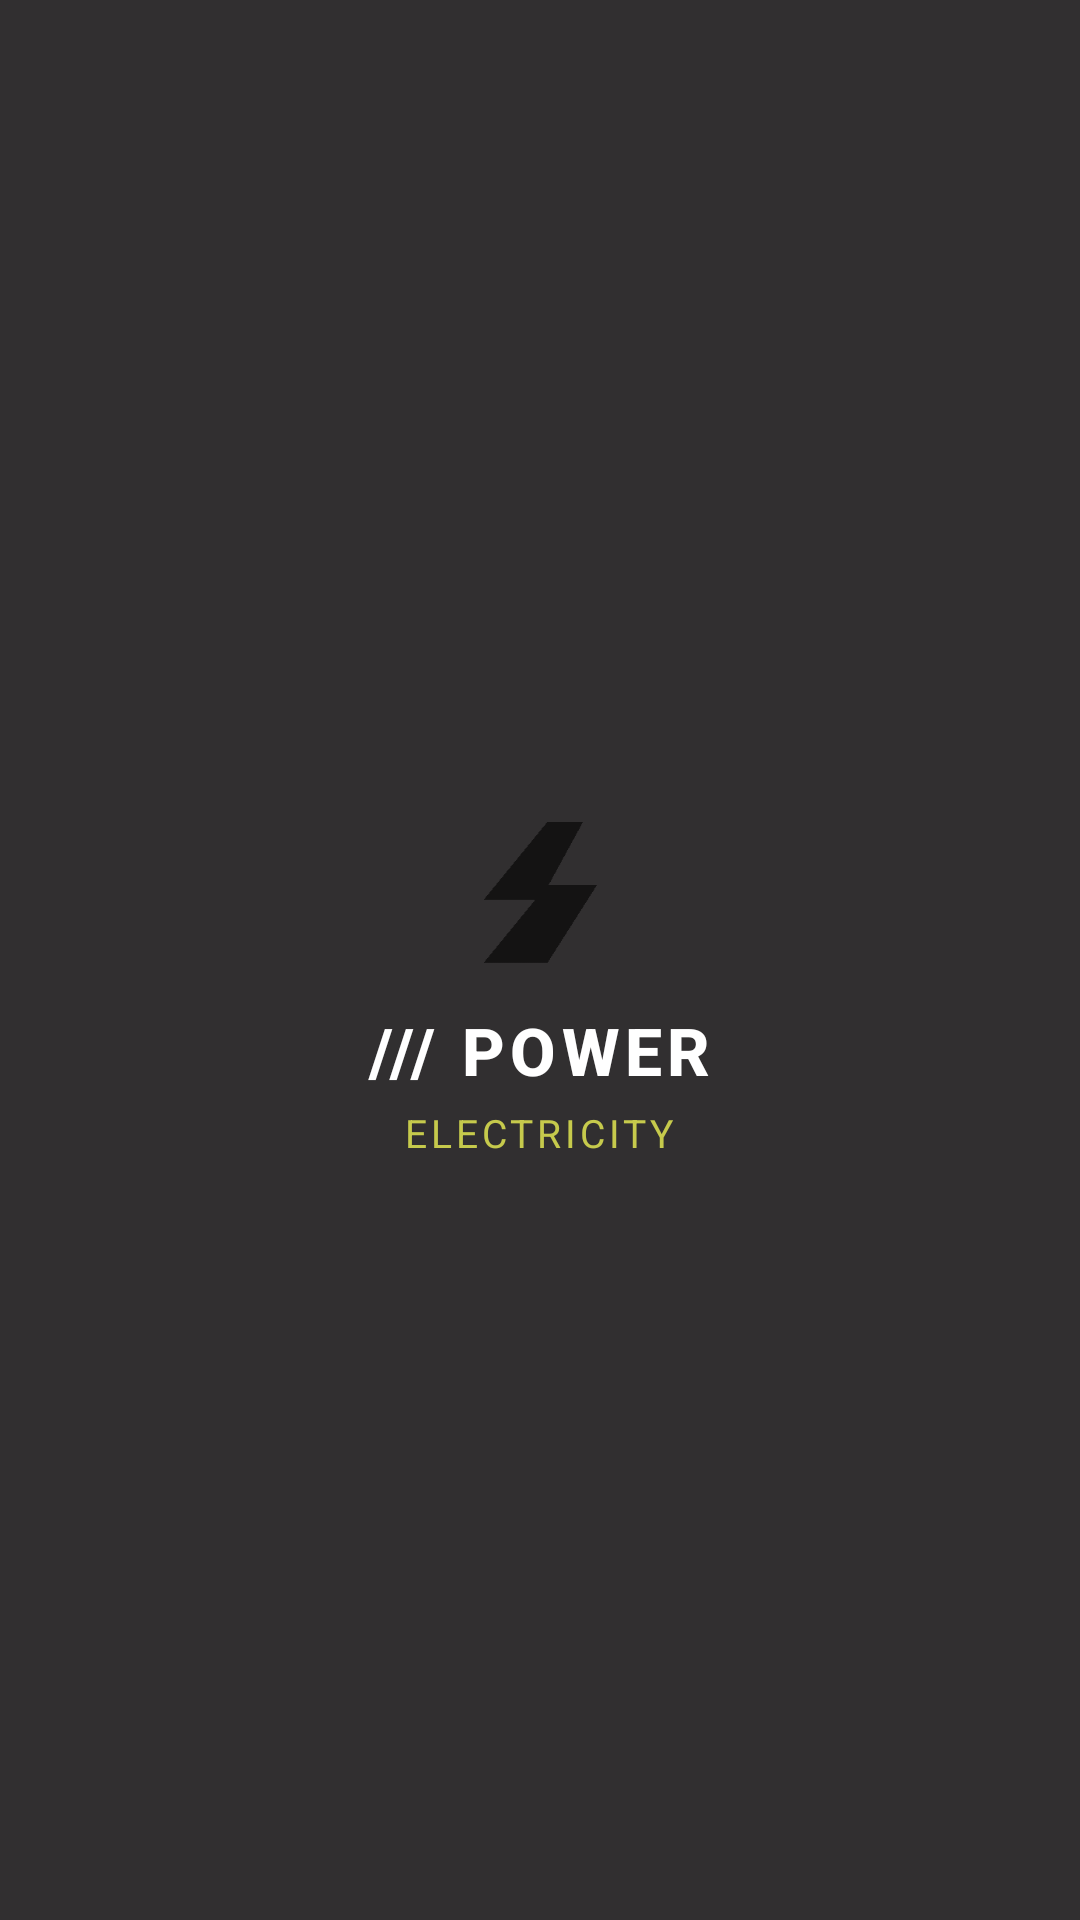

Locate icon controls on the screen. Image size 1080*1920, boxes as bbox(x1, y1, x2, y2).
bolt: bbox(484, 822, 596, 963)
